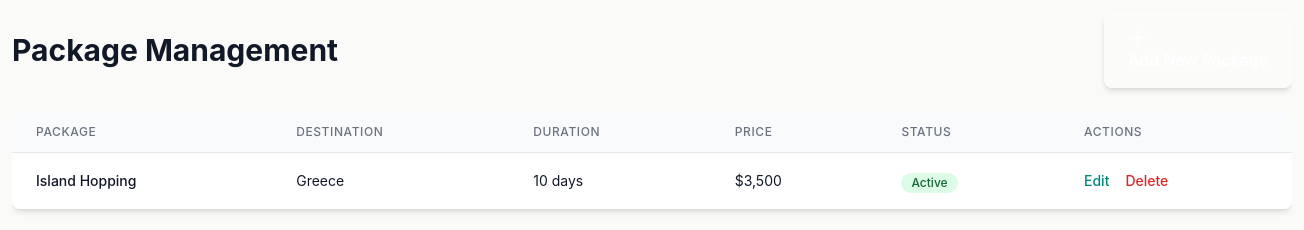
Test: PackageManagementPage Component › Package Deletion › should require confirmation before deleting package
Expected: the text "Island Hopping" is shown, left=36, top=171, right=136, bottom=191
Note: First click - should show confirmation
Click the button "Delete" at (1147, 181), box left=1125, top=171, right=1168, bottom=191
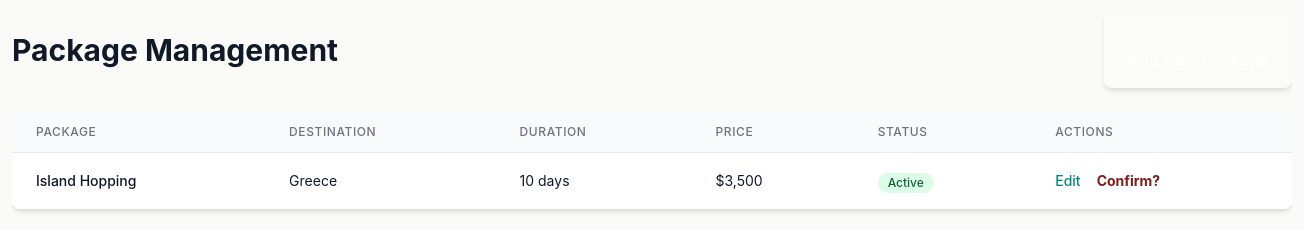
Expected: the button "Confirm?" is shown, left=1097, top=171, right=1160, bottom=191
